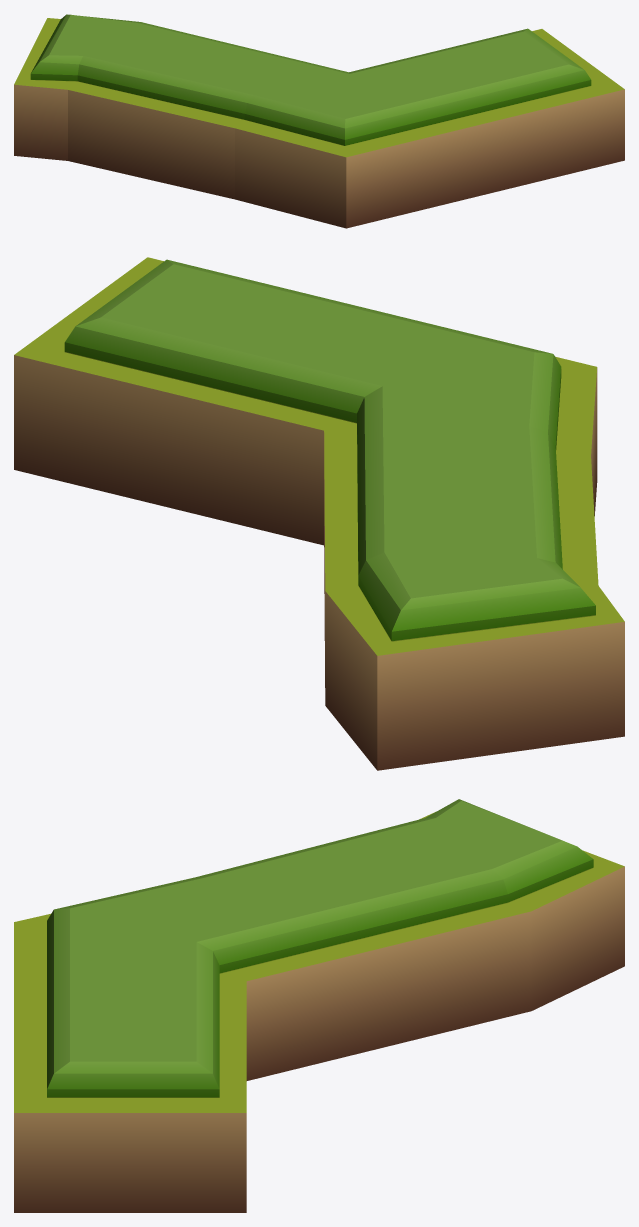
The model's file is Y_Intersect_Grass_Left.fbx.
The picture shows the model from 3 angles, top to bottom: view 1: azimuth 30°, elevation 25°; view 2: azimuth 150°, elevation 25°; view 3: azimuth 270°, elevation 25°; orthographic projection. The views are drawn at different scales.
Parts seen in each view (by area): view 1: Y_Intersect_Grass_Left; view 2: Y_Intersect_Grass_Left; view 3: Y_Intersect_Grass_Left.
Part boxes in pixels (x1,y1,x2,y2): Y_Intersect_Grass_Left: [14, 14, 624, 228]; Y_Intersect_Grass_Left: [14, 257, 624, 770]; Y_Intersect_Grass_Left: [14, 799, 624, 1212].
Bounding box in the file's own units: 255 × 48.52 × 212.
